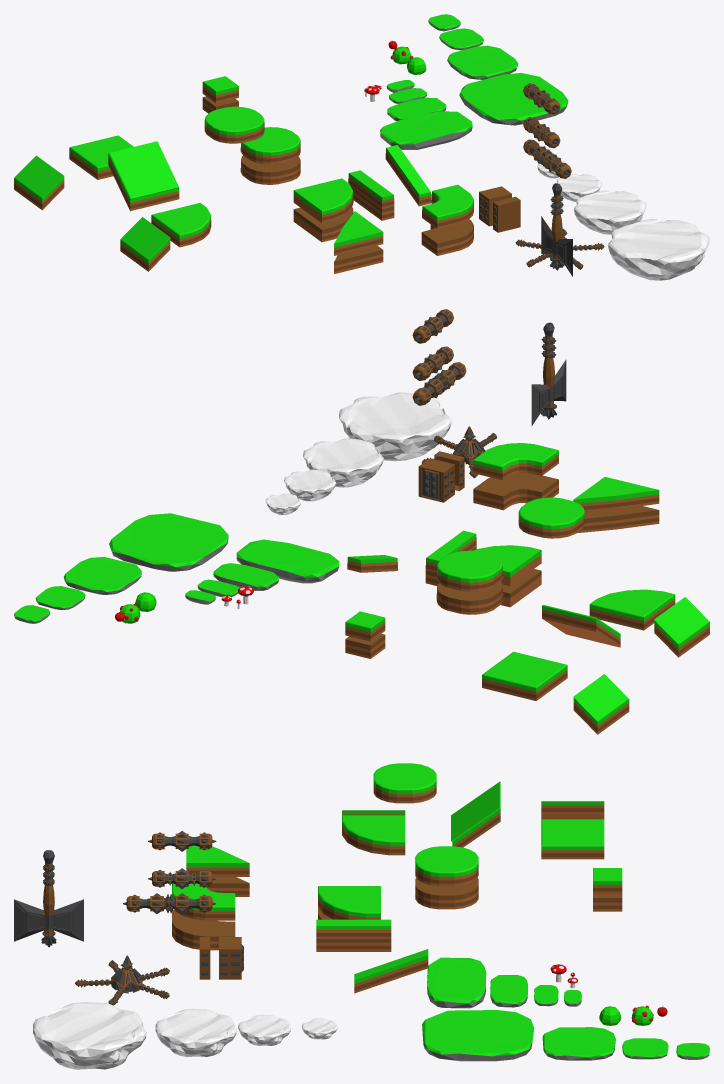
Rendered from LAND.fbx.
3 renders of one model, top to bottom at view 1: azimuth 30°, elevation 25°; view 2: azimuth 150°, elevation 25°; view 3: azimuth 270°, elevation 25°, orthographic. The views are drawn at different scales.
Visible parts, largest first — view 1: Cube.069, Cube.043, Cube.030, Cube.042, Cube.066, Cube.026, Cube.014, Cube.017, Cube.060, Cube.028, Cube.029, Cube.063 (+22 smaller); view 2: Cube.069, Cube.043, Cube.042, Cube.015, Cube.066, Cube.017, Cube.063, Cube.014, Cube.021, Cube.022, Cube.060, Cube.028 (+20 smaller); view 3: Cube.069, Cube.043, Cube.066, Cylinder.009, Cube.042, Cube.015, Cube.017, Cube.021, Cube.014, Cube.060, Cube.026, Cube.030 (+23 smaller).
Part boxes in pixels (x1=…): Cube.069: x1=608, y1=219, x2=709, y2=280; Cube.043: x1=459, y1=73, x2=568, y2=125; Cube.030: x1=108, y1=141, x2=179, y2=211; Cube.042: x1=380, y1=111, x2=472, y2=149; Cube.066: x1=574, y1=190, x2=646, y2=234; Cube.026: x1=293, y1=178, x2=353, y2=223; Cube.014: x1=204, y1=106, x2=264, y2=143; Cube.017: x1=151, y1=203, x2=211, y2=247; Cube.060: x1=447, y1=45, x2=518, y2=79; Cube.028: x1=14, y1=155, x2=64, y2=210; Cube.029: x1=120, y1=217, x2=170, y2=271; Cube.063: x1=422, y1=184, x2=473, y2=229; Cube.069: x1=339, y1=392, x2=451, y2=461; Cube.043: x1=109, y1=513, x2=228, y2=571; Cube.042: x1=236, y1=539, x2=339, y2=583; Cube.015: x1=482, y1=651, x2=567, y2=700; Cube.066: x1=303, y1=438, x2=383, y2=487; Cube.017: x1=589, y1=589, x2=675, y2=630; Cube.063: x1=473, y1=443, x2=558, y2=480; Cube.014: x1=518, y1=497, x2=584, y2=538; Cube.021: x1=436, y1=550, x2=503, y2=591; Cube.022: x1=473, y1=473, x2=558, y2=510; Cube.060: x1=64, y1=557, x2=141, y2=594; Cube.028: x1=573, y1=674, x2=629, y2=734; Cube.069: x1=33, y1=1002, x2=146, y2=1069; Cube.043: x1=422, y1=1010, x2=534, y2=1061; Cube.066: x1=155, y1=1008, x2=236, y2=1056; Cylinder.009: x1=14, y1=850, x2=83, y2=947; Cube.042: x1=427, y1=957, x2=486, y2=1008; Cube.015: x1=541, y1=819, x2=604, y2=859; Cube.017: x1=342, y1=815, x2=405, y2=855; Cube.021: x1=415, y1=846, x2=478, y2=886; Cube.014: x1=373, y1=763, x2=436, y2=803; Cube.060: x1=542, y1=1027, x2=615, y2=1060; Cube.026: x1=318, y1=886, x2=380, y2=919; Cube.030: x1=451, y1=781, x2=500, y2=847.
Size of the model in its own units: 10378 by 3505 by 11603.
